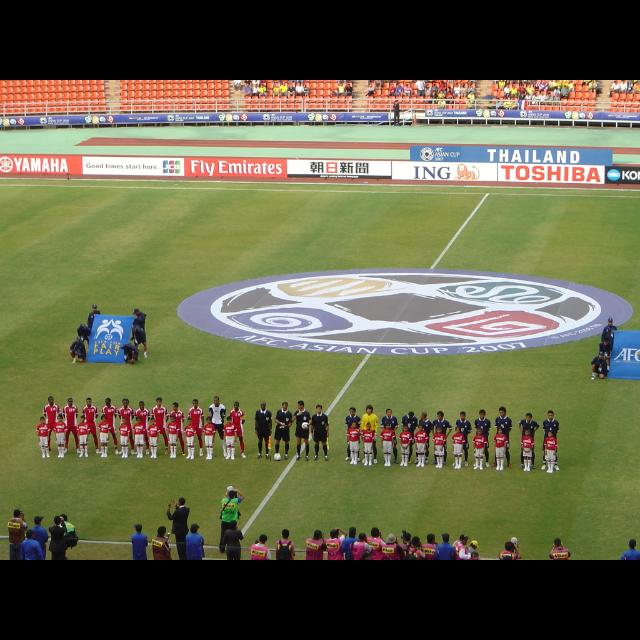Football: (270, 453, 280, 461)
